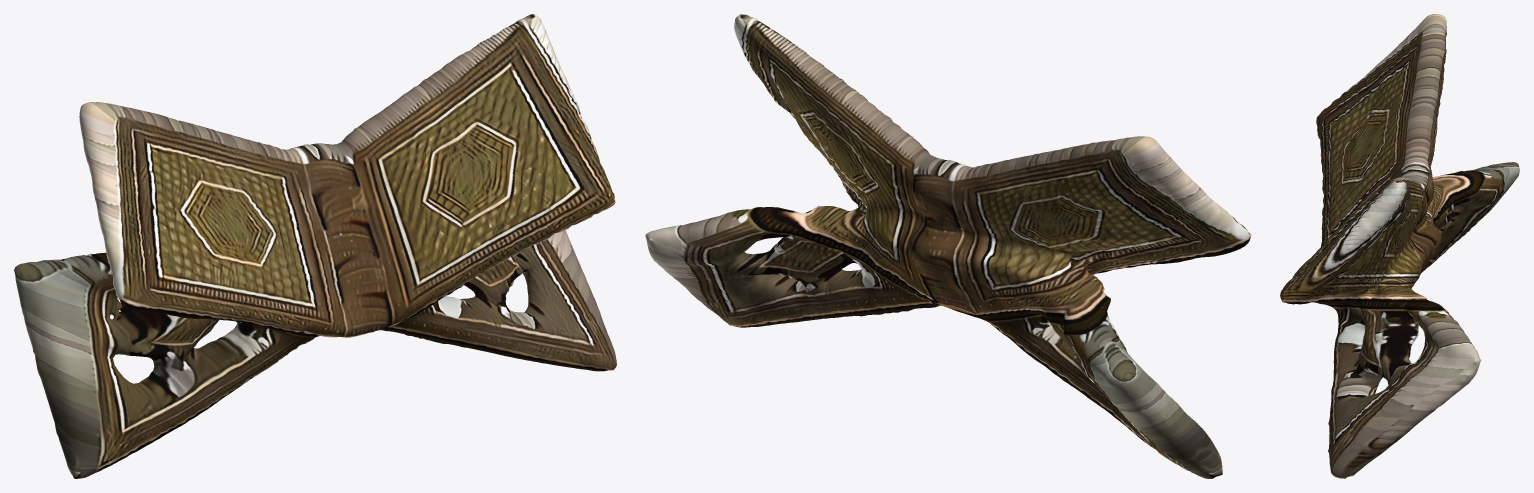
File: kfl-2261.glb
3 renders of one model, left to right at view 1: azimuth 30°, elevation 25°; view 2: azimuth 150°, elevation 25°; view 3: azimuth 270°, elevation 25°, orthographic. The views are drawn at different scales.
Parts seen in each view (by area): view 1: kfl-2261; view 2: kfl-2261; view 3: kfl-2261.
Part boxes in pixels (<box>): kfl-2261: <box>14,14,616,478</box>; kfl-2261: <box>645,14,1251,478</box>; kfl-2261: <box>1280,14,1519,478</box>.
Size of the model in its own units: 0.99 by 0.6329 by 0.4795.
Materials: 1 (1 with a texture image).
